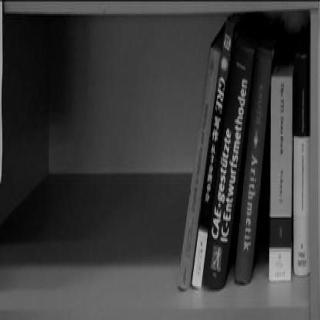book-spine: (203, 40, 256, 291), (191, 19, 235, 287), (177, 45, 221, 291), (235, 45, 274, 285), (269, 76, 293, 282), (293, 52, 310, 276)
